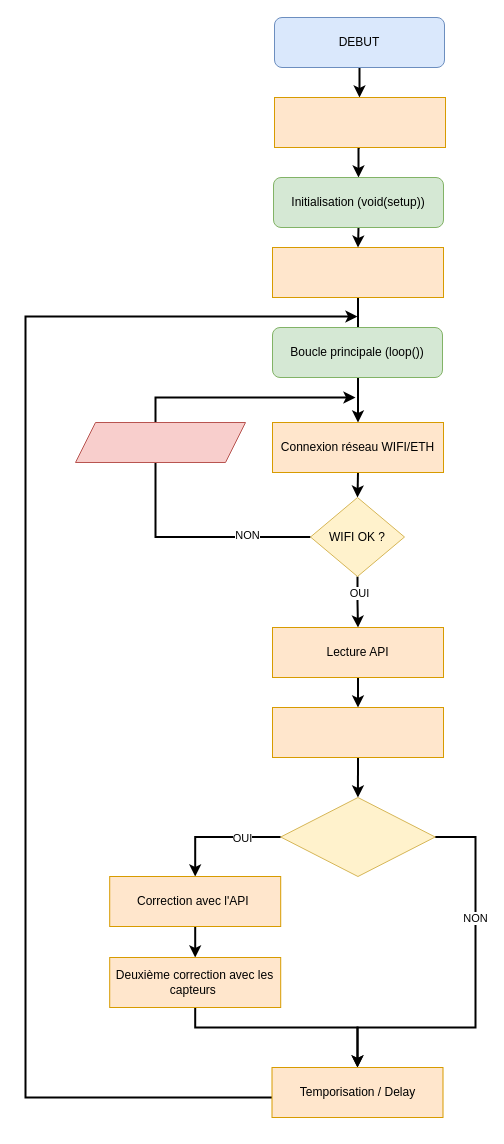
This 504x1144 diagram has some shape labels left out. The centre of each missing label's shape, as x and y in pixels:
Extraction des données Azimut / Elévation: point 358,732
Inclusion des librairies et des variables: point 360,122
Initialisation moniteur série ?: point 358,272
Le soleil a-t-il bougé ?: point 357,836
PRINT "PAS DE WIFI": point 160,442
